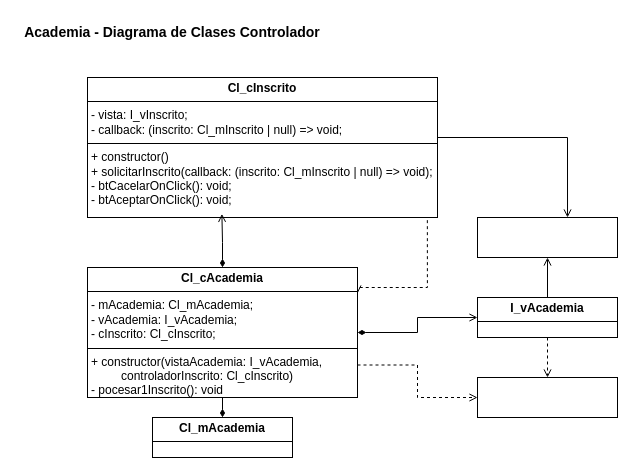
This 635x475 diagram has some shape labels left out. The shapes that lost their labels are listed below. From the top down, each one's centre as x and y in pixels, then its label:
At (547,237): "Cl_cInscrito".
At (547,397): "Cl_mInscrito".
